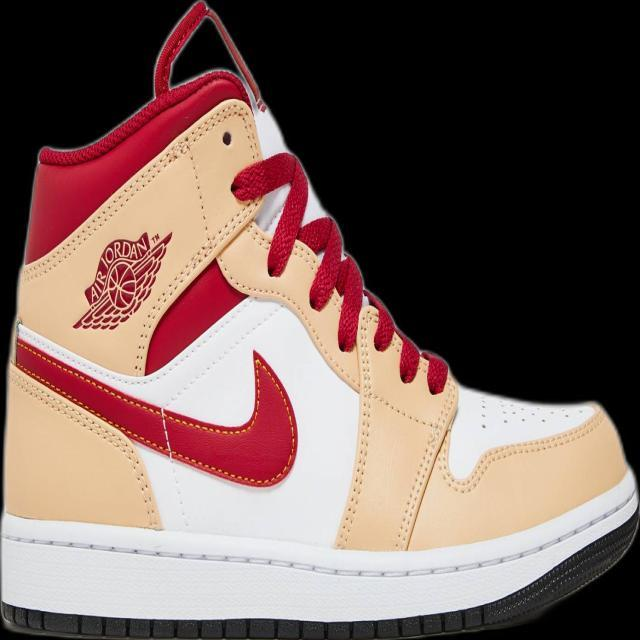J1_InsoleChar: (1, 1, 637, 638)
J1_ShoeLogo: (71, 229, 173, 331)
J1_StitchPattern: (223, 150, 457, 550), (1, 496, 637, 637), (136, 149, 450, 400), (20, 95, 254, 284), (332, 289, 457, 552), (7, 359, 163, 530), (441, 403, 606, 494), (392, 350, 458, 552), (332, 302, 377, 551), (472, 390, 591, 433)
